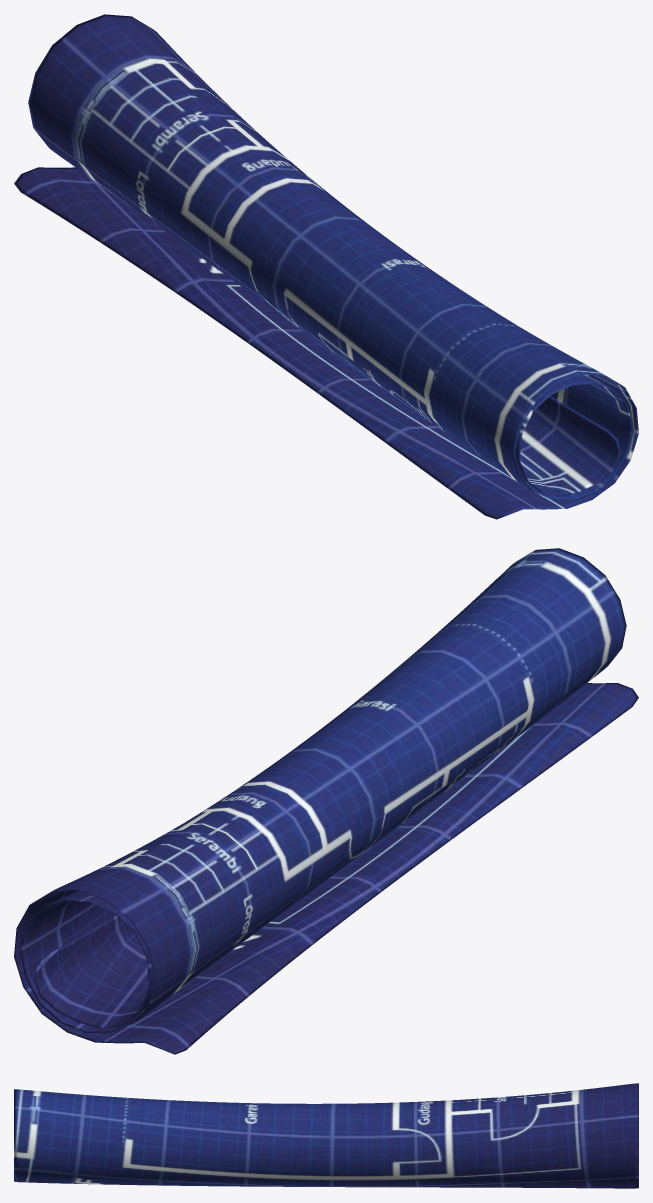
File: blueprint roll paper.fbx
The picture shows the model from 3 angles, top to bottom: view 1: azimuth 30°, elevation 25°; view 2: azimuth 150°, elevation 25°; view 3: azimuth 270°, elevation 25°; orthographic projection. The views are drawn at different scales.
Parts seen in each view (by area): view 1: Plane002; view 2: Plane002; view 3: Plane002.
Part boxes in pixels (x1,y1,x2,y2): Plane002: (14,14,638,519); Plane002: (14,548,638,1054); Plane002: (14,1083,638,1188).
Size of the model in its own units: 16.51 by 14.69 by 85.51.
